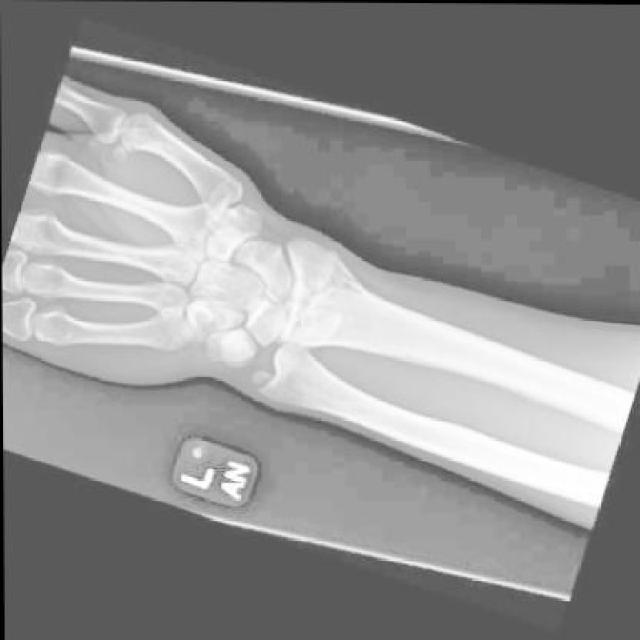Fracture: (282, 243, 369, 358), (251, 369, 279, 400)
